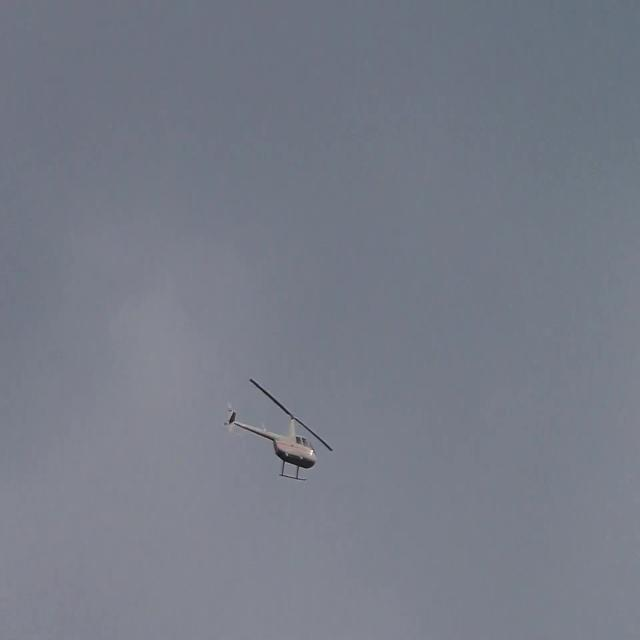CIV_HELO: (225, 398, 319, 483)
